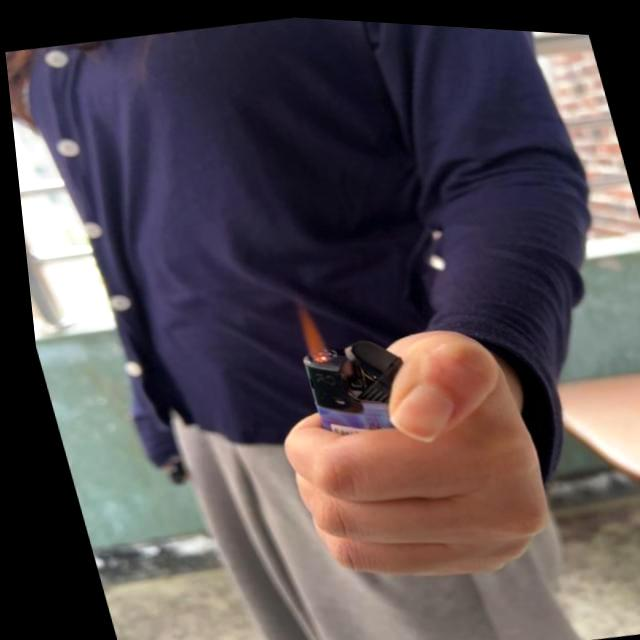fire: (279, 300, 325, 362)
